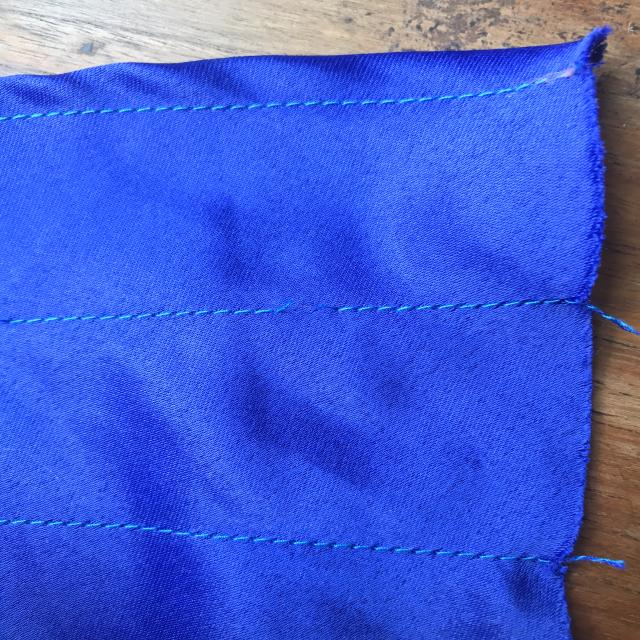broken: (246, 284, 366, 335)
good: (267, 520, 448, 578)
